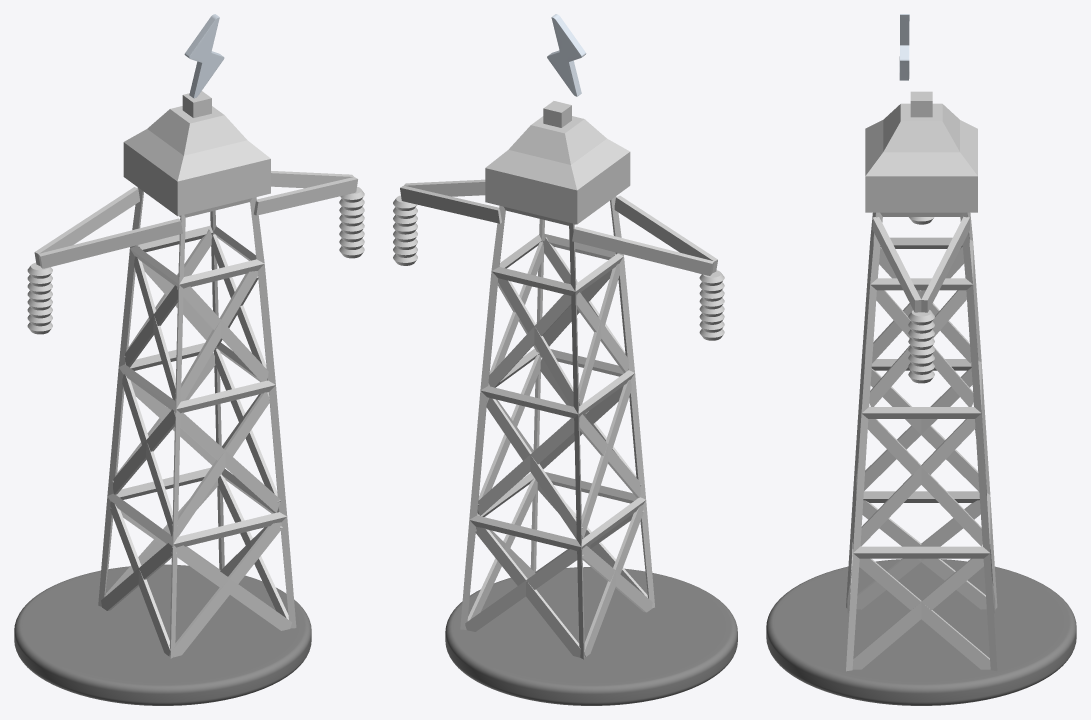
The picture shows the model from 3 angles, left to right: view 1: azimuth 30°, elevation 25°; view 2: azimuth 150°, elevation 25°; view 3: azimuth 270°, elevation 25°; orthographic projection. The views are drawn at different scales.
Visible parts, largest first — view 1: Cube.001; view 2: Cube.001; view 3: Cube.001.
Boxes of the visible parts, x1=… form: Cube.001: x1=14, y1=14, x2=364, y2=705; Cube.001: x1=393, y1=14, x2=737, y2=705; Cube.001: x1=766, y1=14, x2=1076, y2=705.
Size of the model in its own units: 0.6364 by 1.14 by 0.4912.
